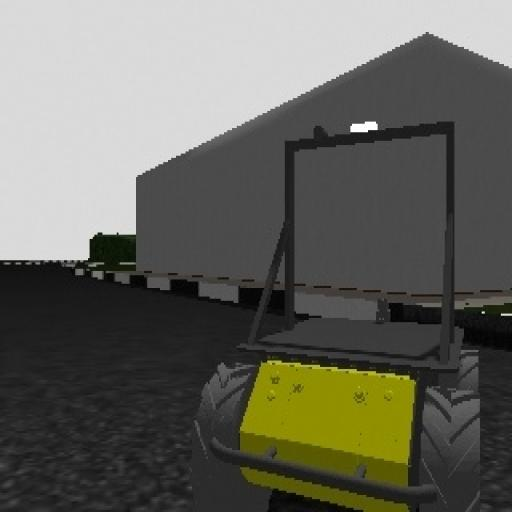huskya200: (180, 116, 488, 512)
